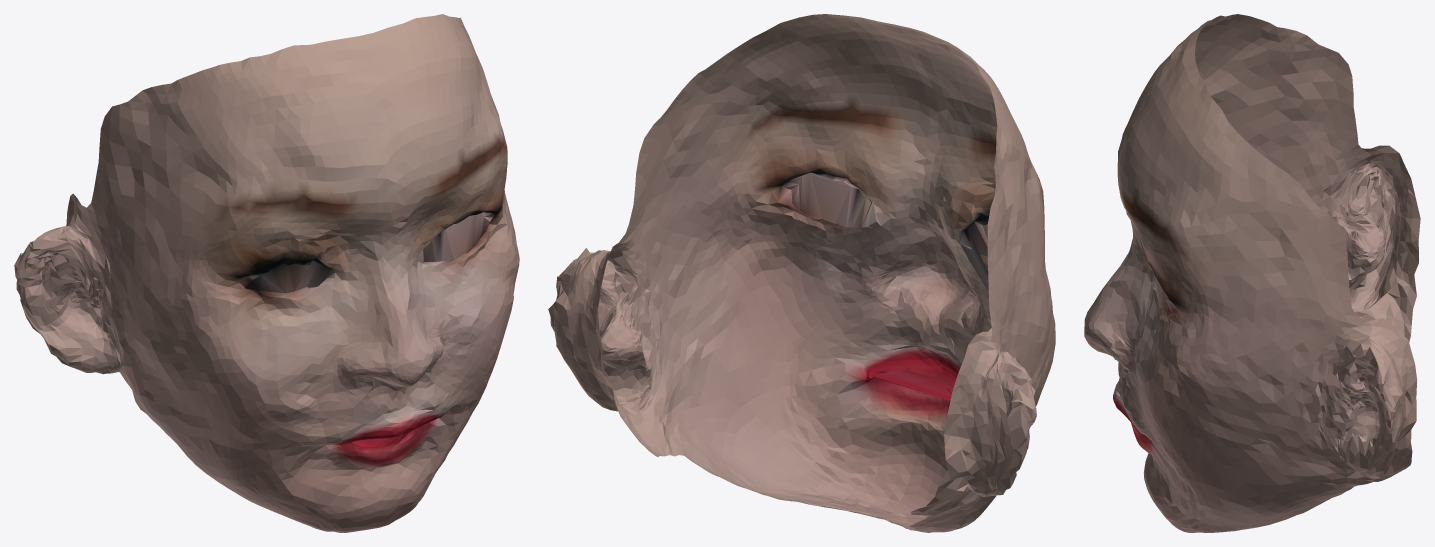
File: seed0008.obj
3 views of the same model, side by side, from view 1: azimuth 30°, elevation 25°; view 2: azimuth 150°, elevation 25°; view 3: azimuth 270°, elevation 25° (orthographic). The views are drawn at different scales.
Size of the model in its own units: 229 by 224 by 146.
